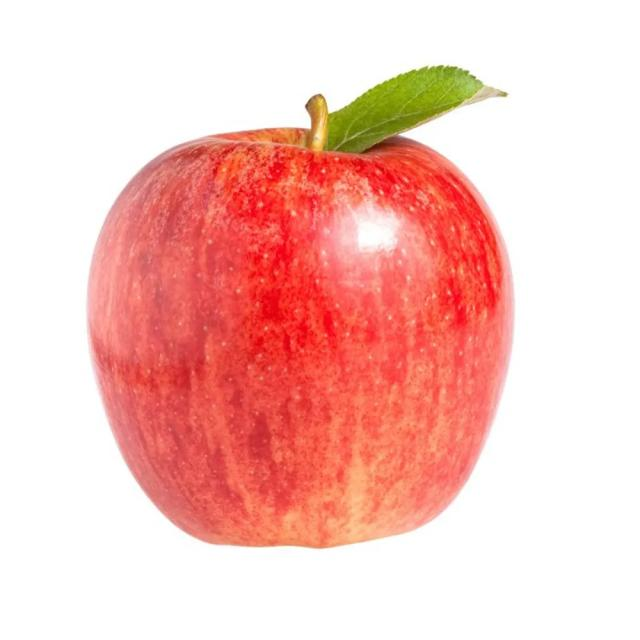manzana: (78, 49, 532, 567)
